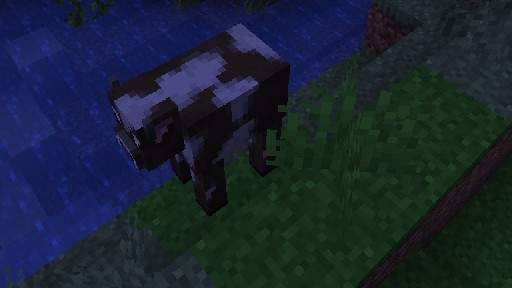cow: (106, 22, 290, 217)
